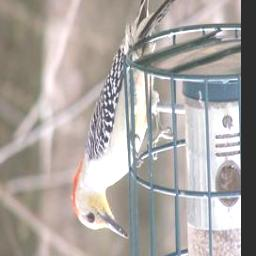Woodpecker: (70, 0, 188, 244)
